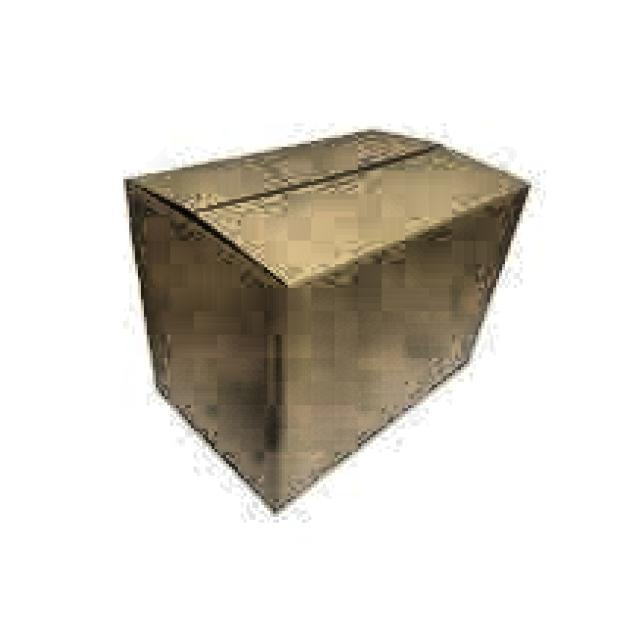cardboard: (123, 123, 534, 514)
